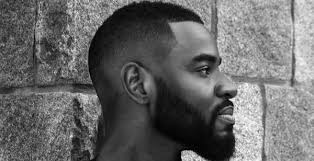black_male: (107, 13, 245, 138)
